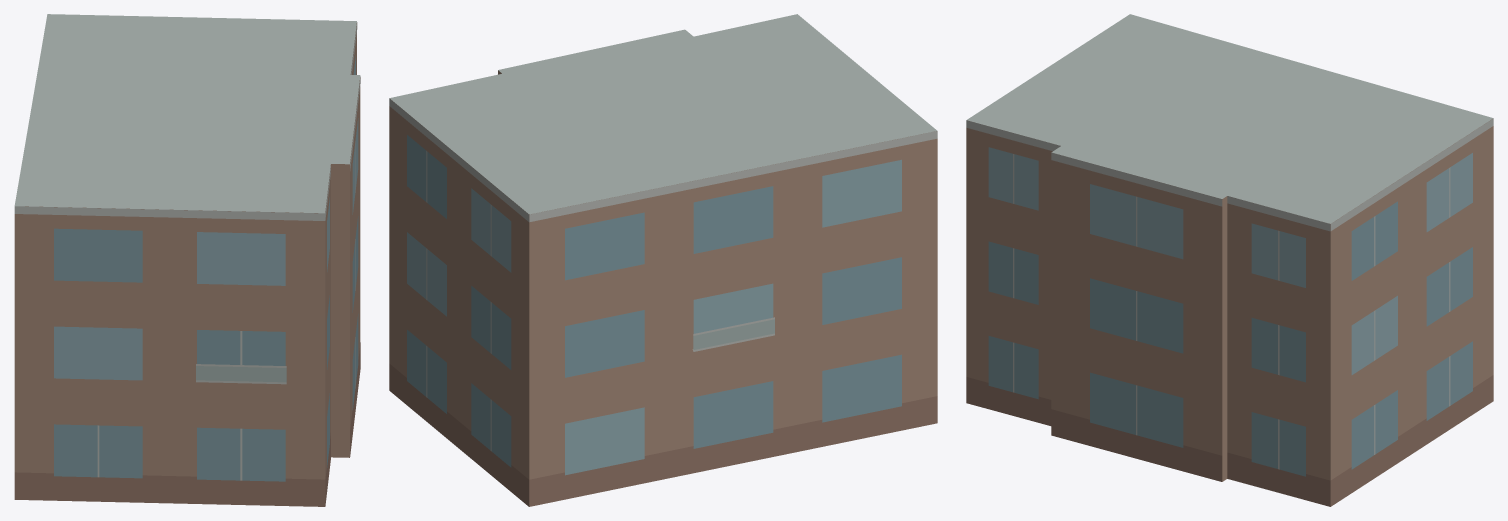
Rendered from survey-upis-32983612.glb.
The picture shows the model from 3 angles, left to right: view 1: azimuth 30°, elevation 25°; view 2: azimuth 150°, elevation 25°; view 3: azimuth 270°, elevation 25°; orthographic projection. The views are drawn at different scales.
Parts seen in each view (by area): view 1: survey-upis-32983612.tmp; view 2: survey-upis-32983612.tmp; view 3: survey-upis-32983612.tmp.
Part boxes in pixels (left/top/right/bottom): survey-upis-32983612.tmp: left=14, top=14, right=360, bottom=506; survey-upis-32983612.tmp: left=389, top=14, right=937, bottom=506; survey-upis-32983612.tmp: left=966, top=14, right=1493, bottom=506.
Bounding box in the file's own units: 14.57 × 9.15 × 15.47.
